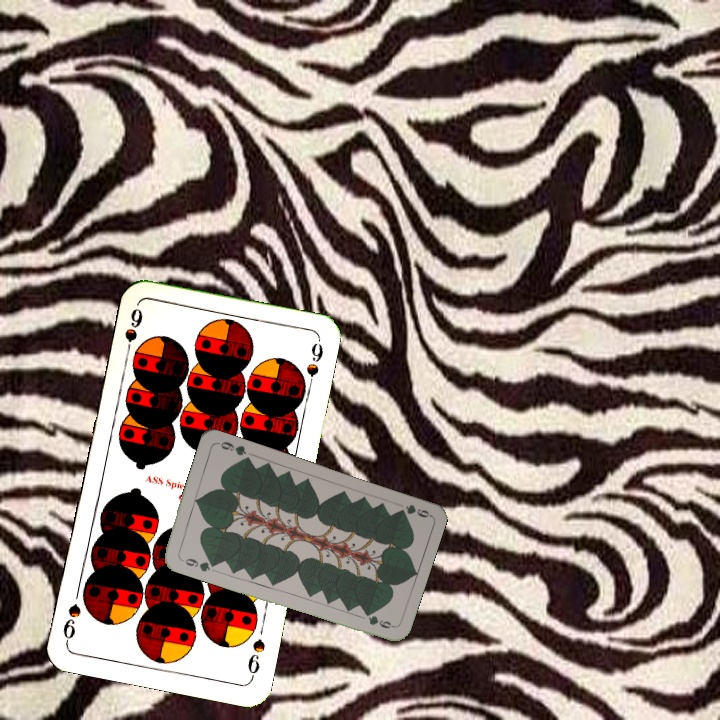G9: (176, 554, 216, 574), (395, 500, 432, 520)
S9: (120, 304, 145, 361), (243, 635, 268, 682)
